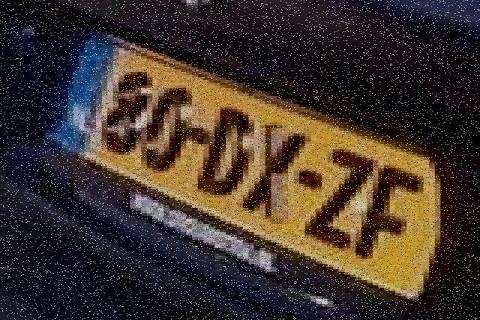LicensePlate: (21, 17, 460, 295)
